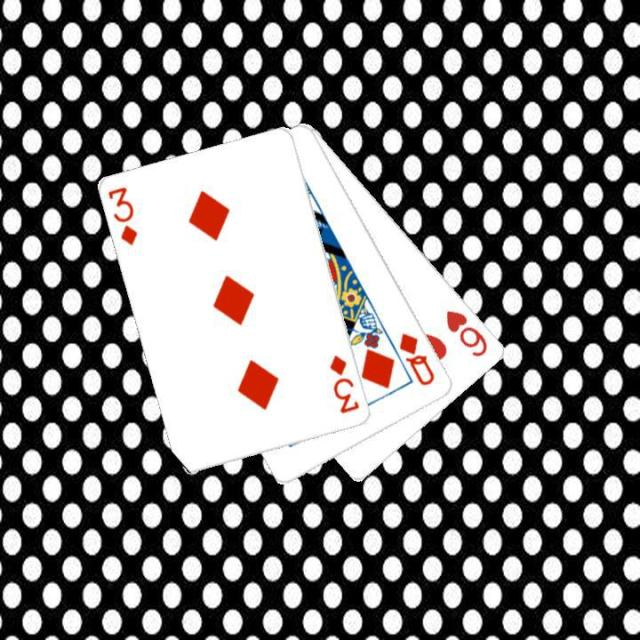3D: (326, 351, 362, 416), (104, 183, 140, 248)
6H: (442, 306, 490, 359)
QD: (396, 329, 438, 387)
